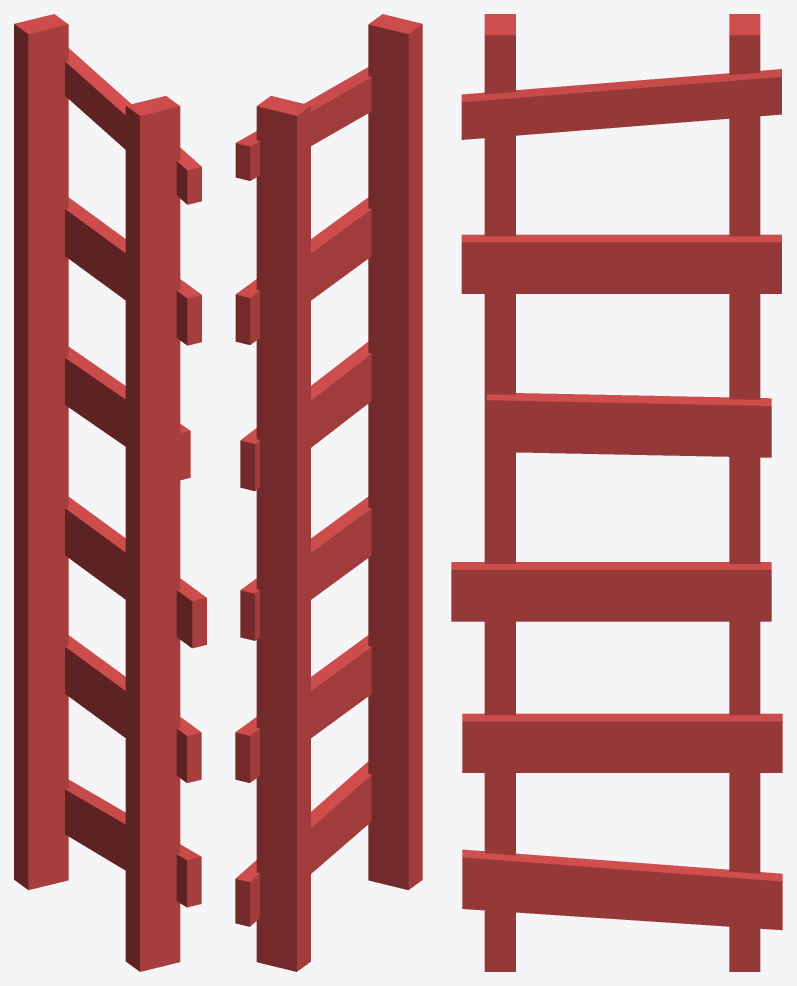
The model's file is Ladder_COL.fbx.
The picture shows the model from 3 angles, left to right: view 1: azimuth 30°, elevation 25°; view 2: azimuth 150°, elevation 25°; view 3: azimuth 270°, elevation 25°; orthographic projection. The views are drawn at different scales.
Parts seen in each view (by area): view 1: Ladder_COL; view 2: Ladder_COL; view 3: Ladder_COL.
Part boxes in pixels (box(x1,y1,x2,y2)): Ladder_COL: box(14, 14, 206, 971); Ladder_COL: box(235, 14, 422, 971); Ladder_COL: box(451, 14, 782, 971).
Size of the model in its own units: 13.28 by 211 by 67.82.
